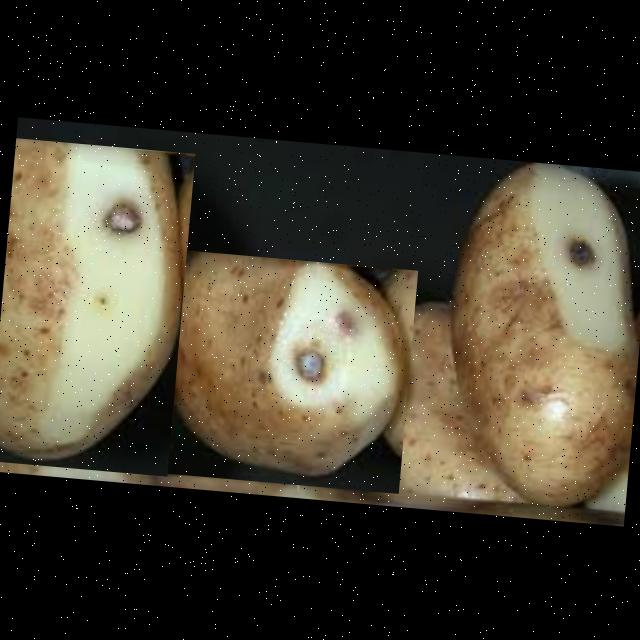Diseased-fungal potato: (442, 155, 640, 517), (0, 136, 194, 475), (156, 248, 417, 492)
